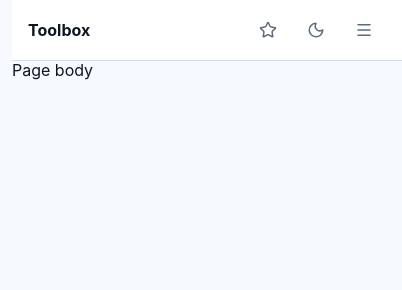
Test case: opens the mobile navigation from an accessible menu button
Click the button named "打开主导航" at (364, 30), box [342,8,386,52]
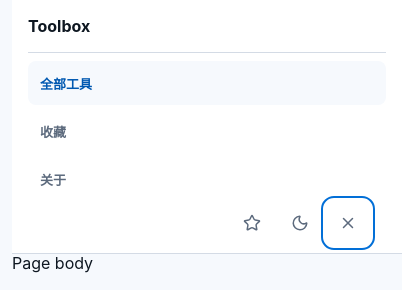
Expected: the button named "关闭主导航" is expanded, [326,201,370,245]
